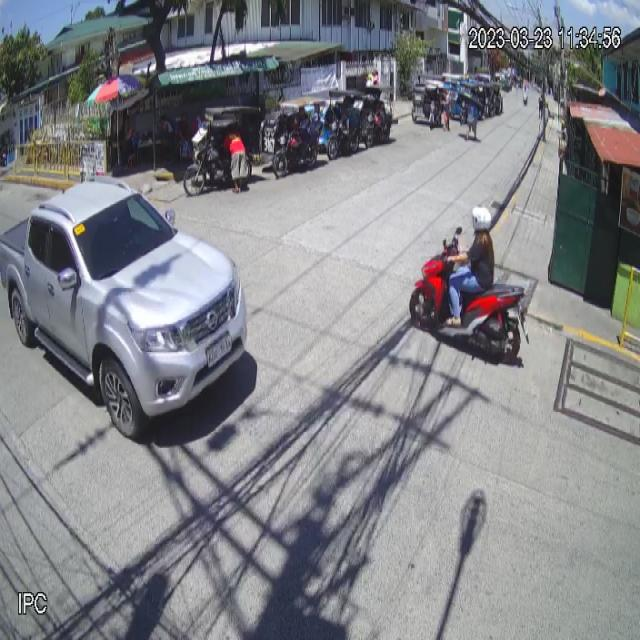Car: (0, 179, 249, 438)
Motorcycle: (409, 226, 532, 362)
